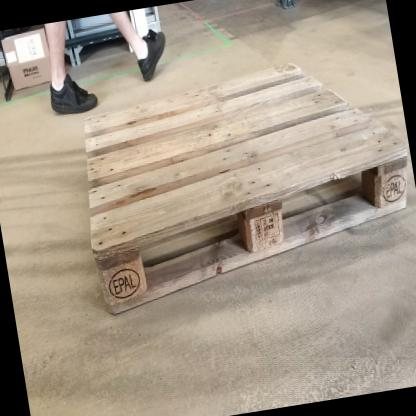BoxFace: (79, 52, 410, 323)
